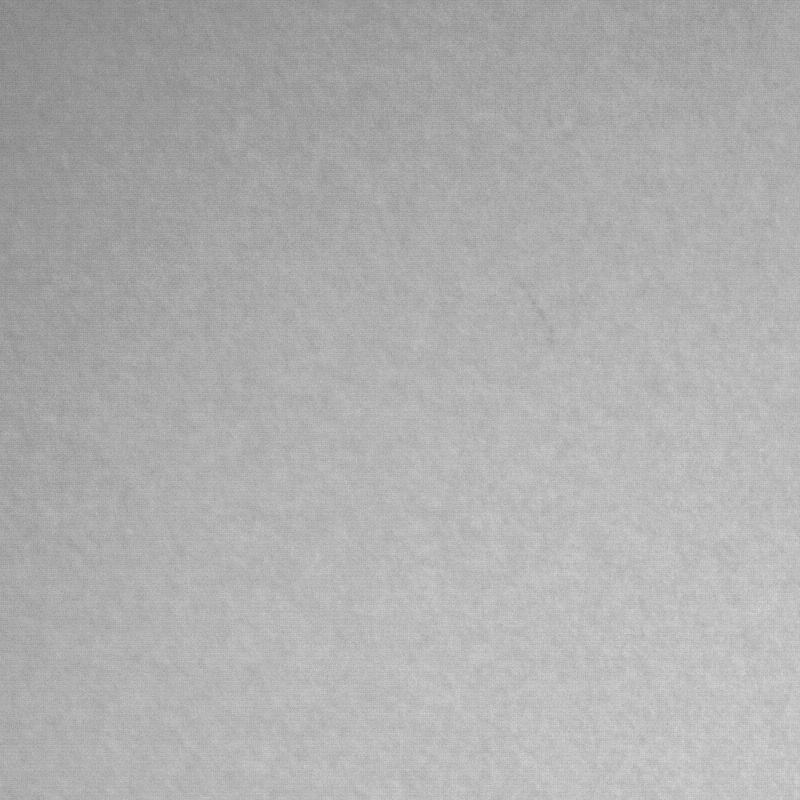defect: (518, 290, 561, 341)
